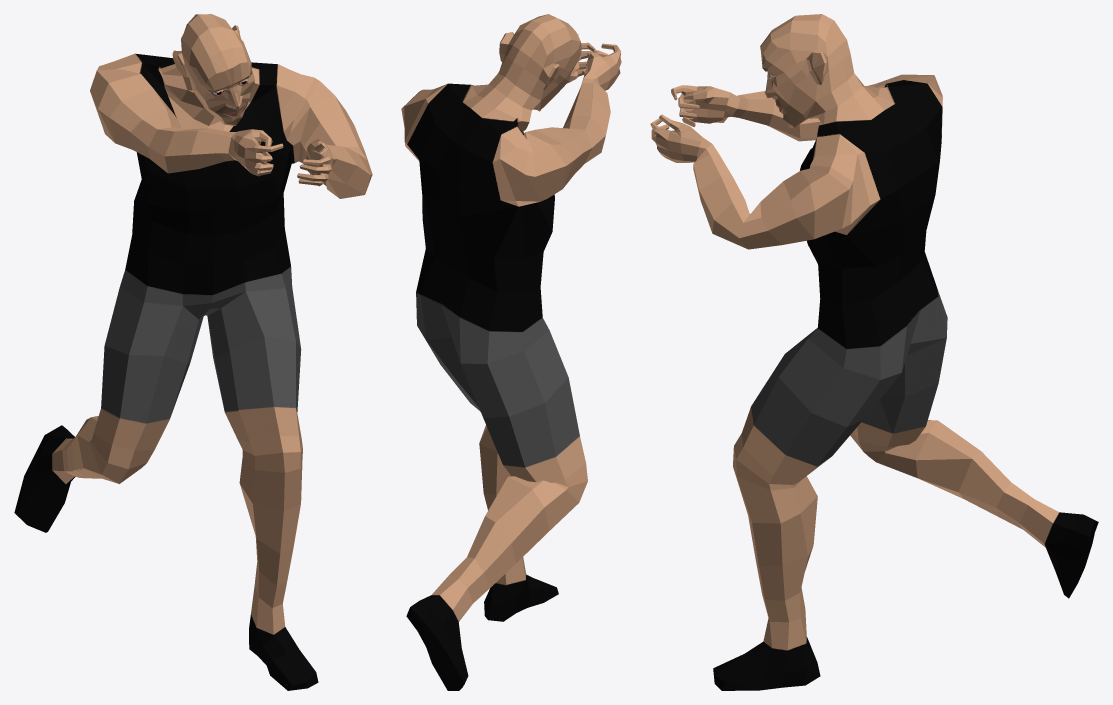
Rendered from PlayerWalk(8).obj.
3 renders of one model, left to right at view 1: azimuth 30°, elevation 25°; view 2: azimuth 150°, elevation 25°; view 3: azimuth 270°, elevation 25°, orthographic. The views are drawn at different scales.
Parts seen in each view (by area): view 1: Plane002; view 2: Plane002; view 3: Plane002.
Boxes of the visible parts, x1,y1,x2,y2 form: Plane002: [14, 14, 372, 690]; Plane002: [401, 14, 621, 690]; Plane002: [650, 14, 1098, 690].
Size of the model in its own units: 587 by 1701 by 1075.
